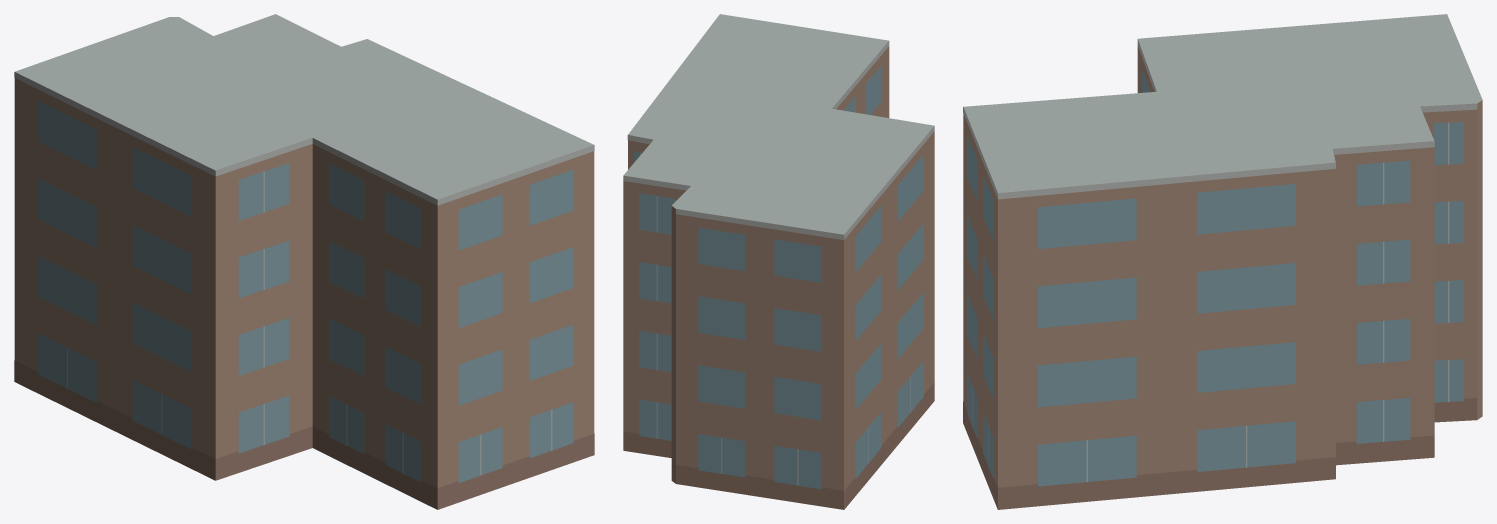
Rendered from survey-upis-32603252.glb.
3 renders of one model, left to right at view 1: azimuth 30°, elevation 25°; view 2: azimuth 150°, elevation 25°; view 3: azimuth 270°, elevation 25°, orthographic. The views are drawn at different scales.
Parts seen in each view (by area): view 1: survey-upis-32603252.tmp; view 2: survey-upis-32603252.tmp; view 3: survey-upis-32603252.tmp.
Part boxes in pixels (left/top/right/bottom): survey-upis-32603252.tmp: left=14, top=14, right=594, bottom=509; survey-upis-32603252.tmp: left=623, top=14, right=934, bottom=509; survey-upis-32603252.tmp: left=963, top=14, right=1482, bottom=509.
Size of the model in its own units: 15.32 by 12.6 by 18.75.
